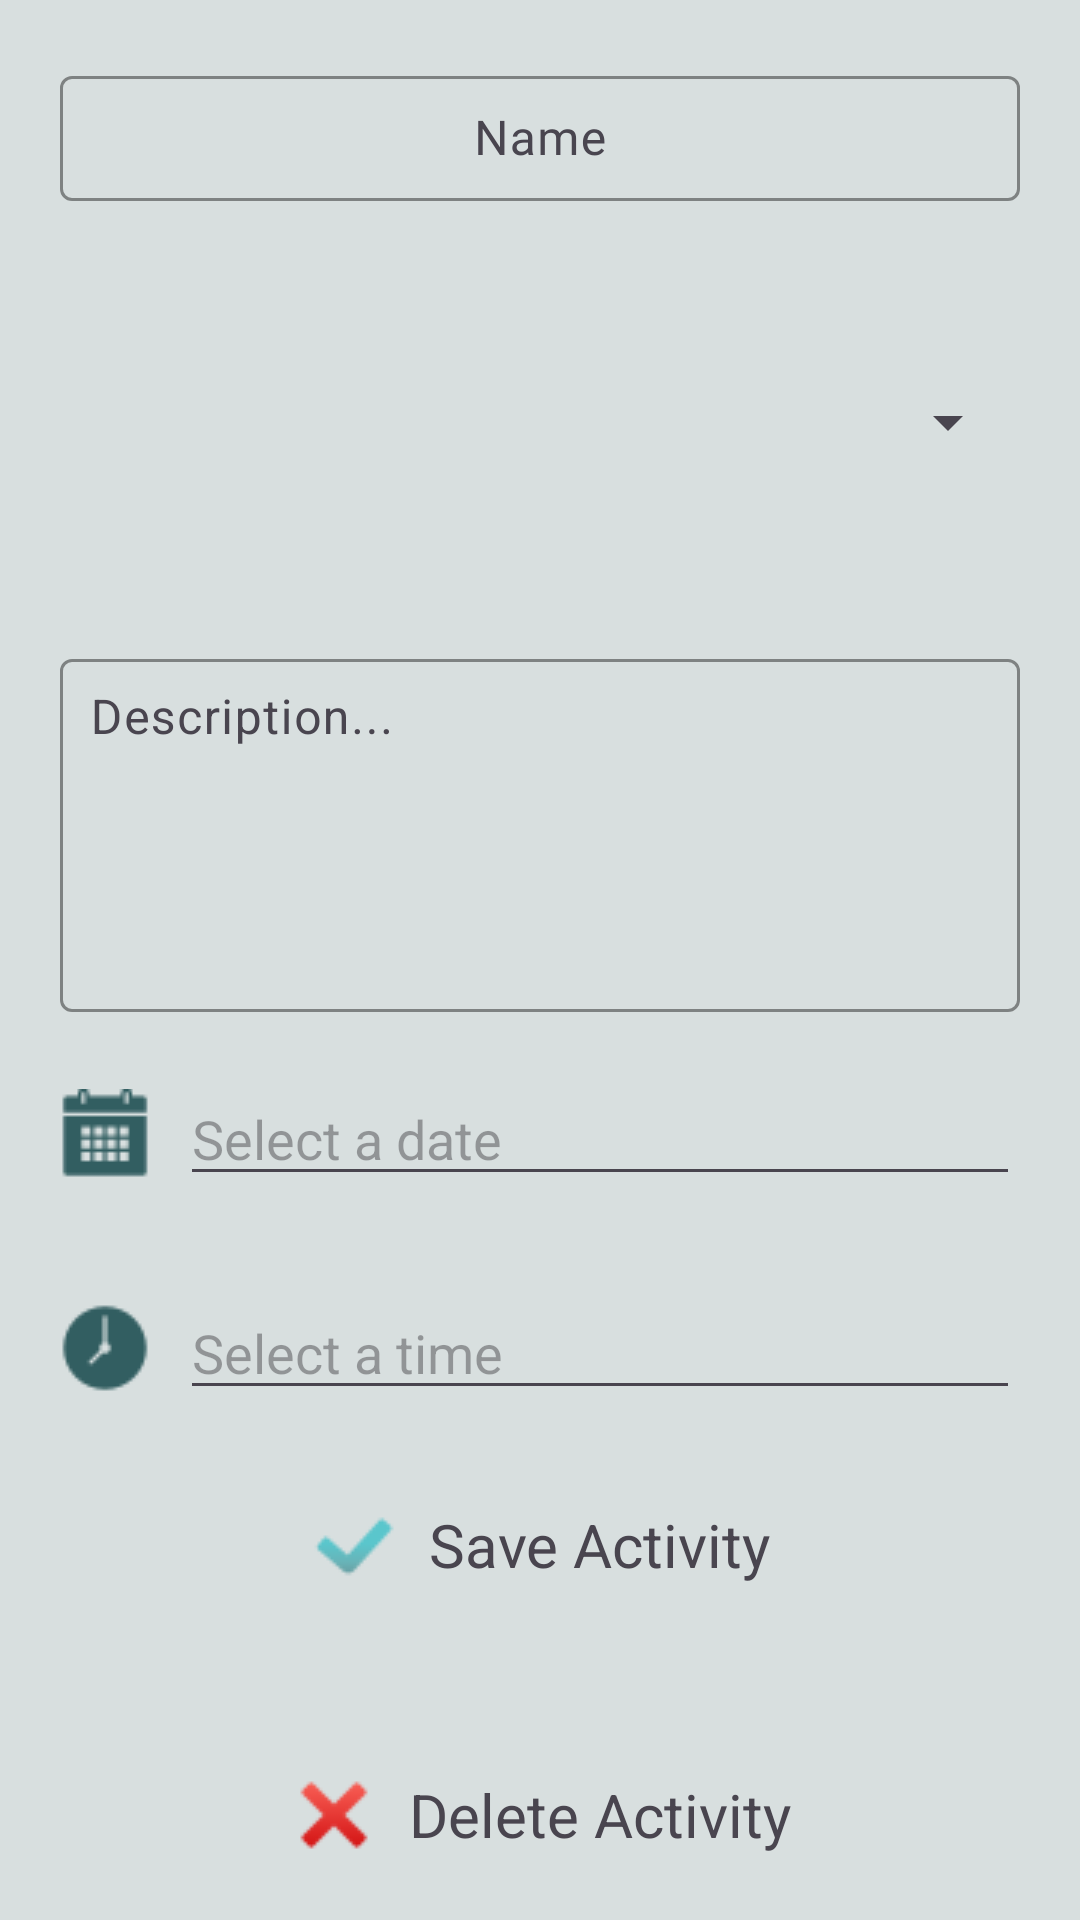

Named icons in this screenshot (1080×1920) and their centers, (x,y):
calendar: (105,1133)
clock: (105,1348)
